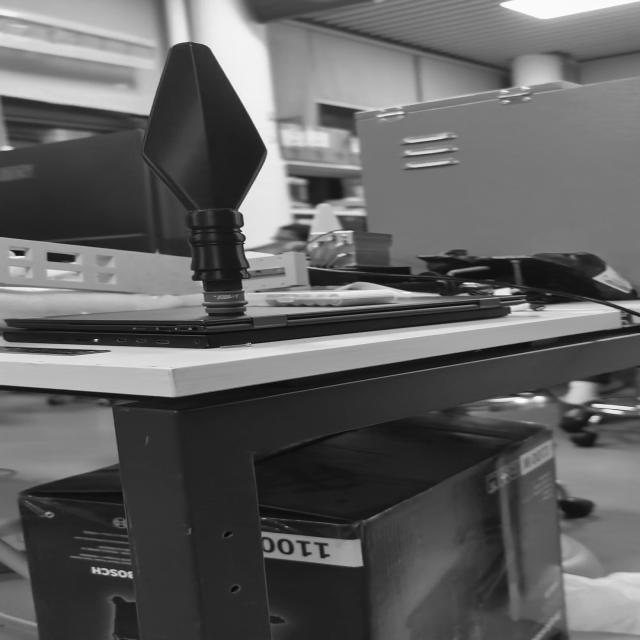base: (198, 287, 252, 324)
